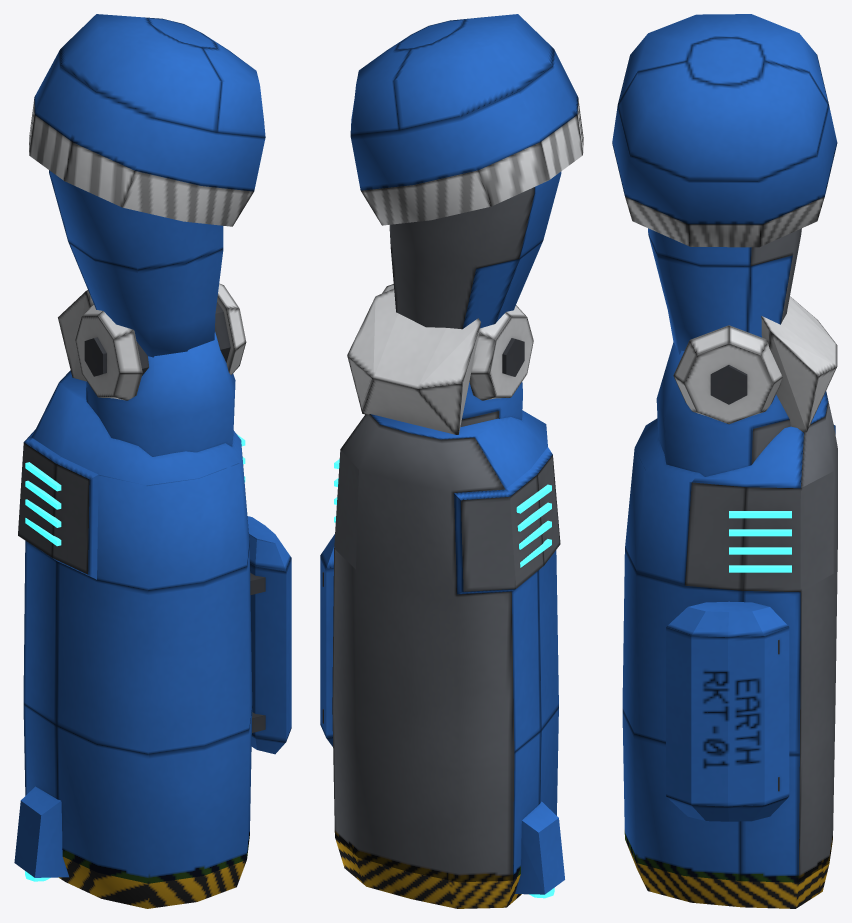
Rendered from RightRocketArmX.glb.
The picture shows the model from 3 angles, left to right: view 1: azimuth 30°, elevation 25°; view 2: azimuth 150°, elevation 25°; view 3: azimuth 270°, elevation 25°; orthographic projection.
Parts seen in each view (by area): view 1: RightRocketArmX_Fore, RightRocketArmX_Upper; view 2: RightRocketArmX_Fore, RightRocketArmX_Upper; view 3: RightRocketArmX_Fore, RightRocketArmX_Upper.
Boxes of the visible parts, <box> form: RightRocketArmX_Fore: <box>14,283,291,908</box>; RightRocketArmX_Upper: <box>29,14,265,357</box>; RightRocketArmX_Fore: <box>320,284,564,908</box>; RightRocketArmX_Upper: <box>350,14,583,329</box>; RightRocketArmX_Fore: <box>622,296,837,908</box>; RightRocketArmX_Upper: <box>612,14,837,354</box>.
Size of the model in its own units: 4.87 by 16.78 by 4.06.
Materials: 6 (5 with a texture image).
